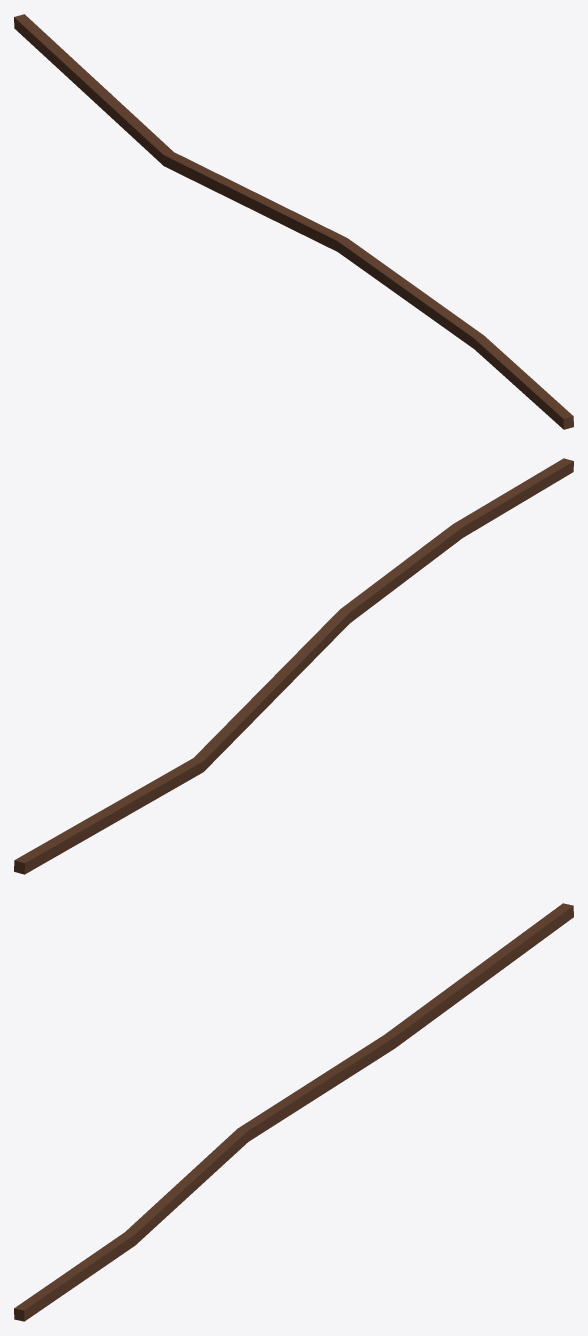
File: RreinforcingBars_A_4.fbx
3 renders of one model, top to bottom at view 1: azimuth 30°, elevation 25°; view 2: azimuth 150°, elevation 25°; view 3: azimuth 330°, elevation 25°, orthographic.
Visible parts, largest first — view 1: RreinforcingBars_A_4; view 2: RreinforcingBars_A_4; view 3: RreinforcingBars_A_4.
Part boxes in pixels (left/top/right/bottom): RreinforcingBars_A_4: left=14, top=14, right=573, bottom=429; RreinforcingBars_A_4: left=14, top=458, right=573, bottom=874; RreinforcingBars_A_4: left=14, top=903, right=573, bottom=1321.
Bounding box in the file's own units: 7.64 × 7.73 × 197.
